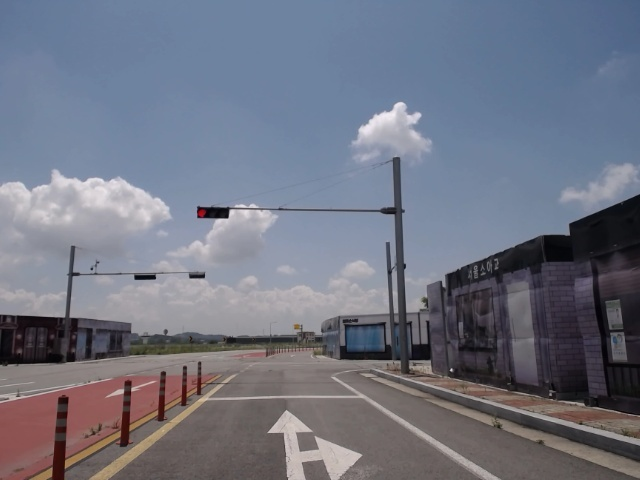red_3: (196, 205, 230, 219)
